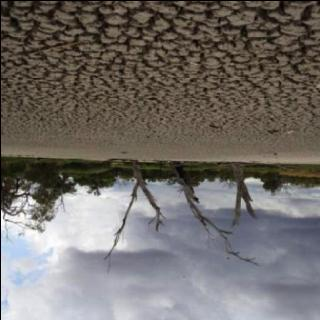Cumulus: (0, 205, 320, 320)
